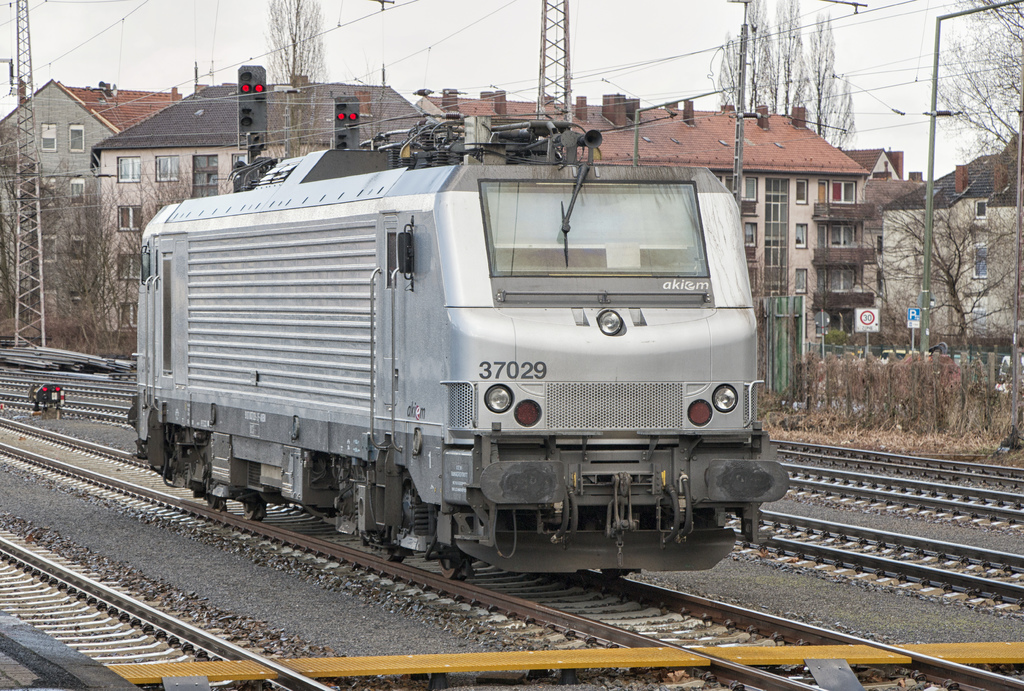train: (126, 116, 792, 586)
